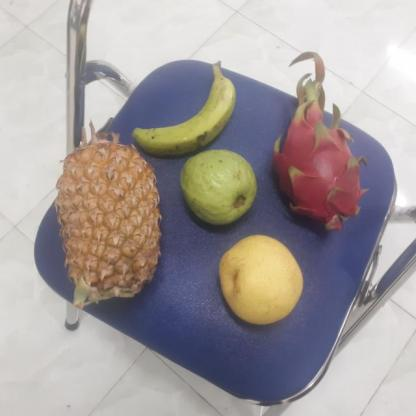banana: (128, 64, 235, 156)
guava: (178, 150, 256, 224)
pear: (213, 233, 306, 326)
pineapple: (51, 146, 161, 302)
pitaya: (268, 106, 364, 232)
